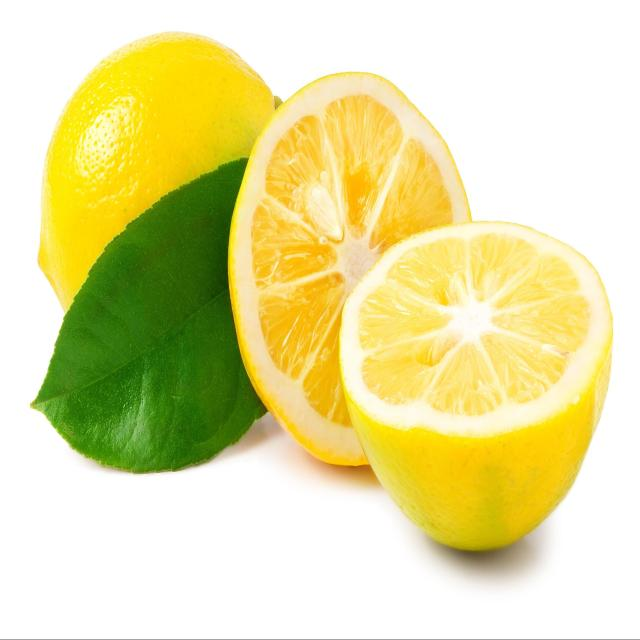lemon: (335, 217, 616, 556)
